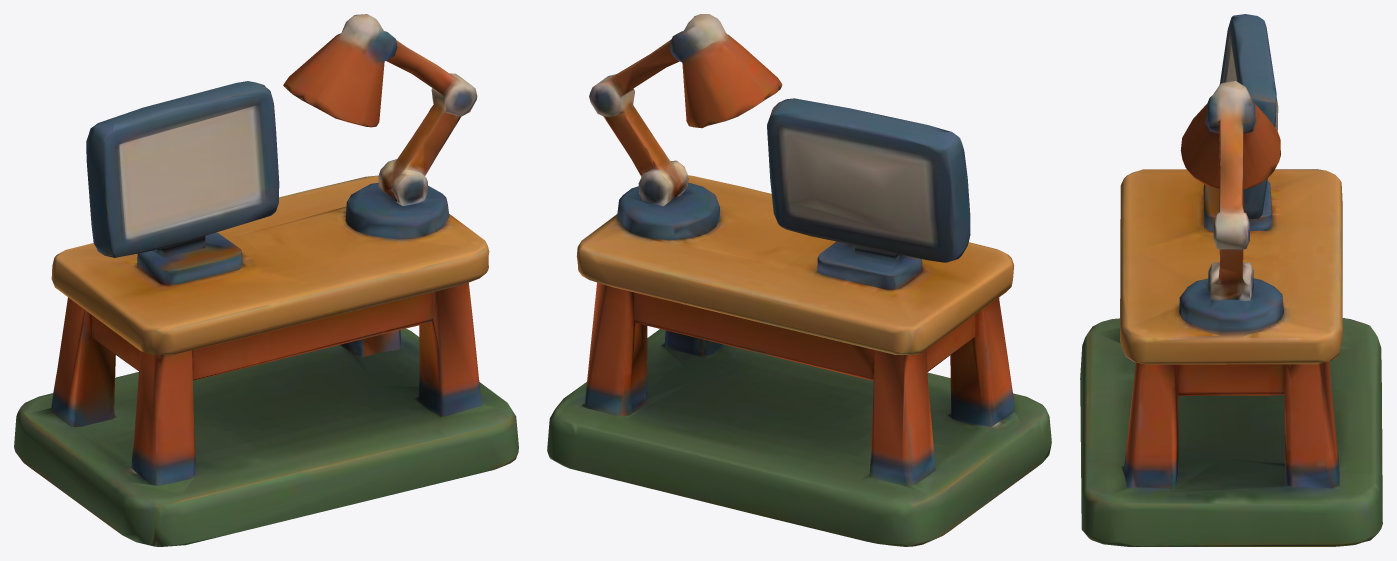
Rendered from startup-desk.lod.glb.
3 views of the same model, side by side, from view 1: azimuth 30°, elevation 25°; view 2: azimuth 150°, elevation 25°; view 3: azimuth 270°, elevation 25° (orthographic).
Parts seen in each view (by area): view 1: textured_mesh.obj; view 2: textured_mesh.obj; view 3: textured_mesh.obj.
Part boxes in pixels (box(x1,y1,x2,y2)): textured_mesh.obj: box(14, 14, 518, 546); textured_mesh.obj: box(547, 14, 1051, 546); textured_mesh.obj: box(1080, 14, 1382, 546).
Size of the model in its own units: 0.997 by 0.9967 by 0.6539.
Materials: 1 (1 with a texture image).
